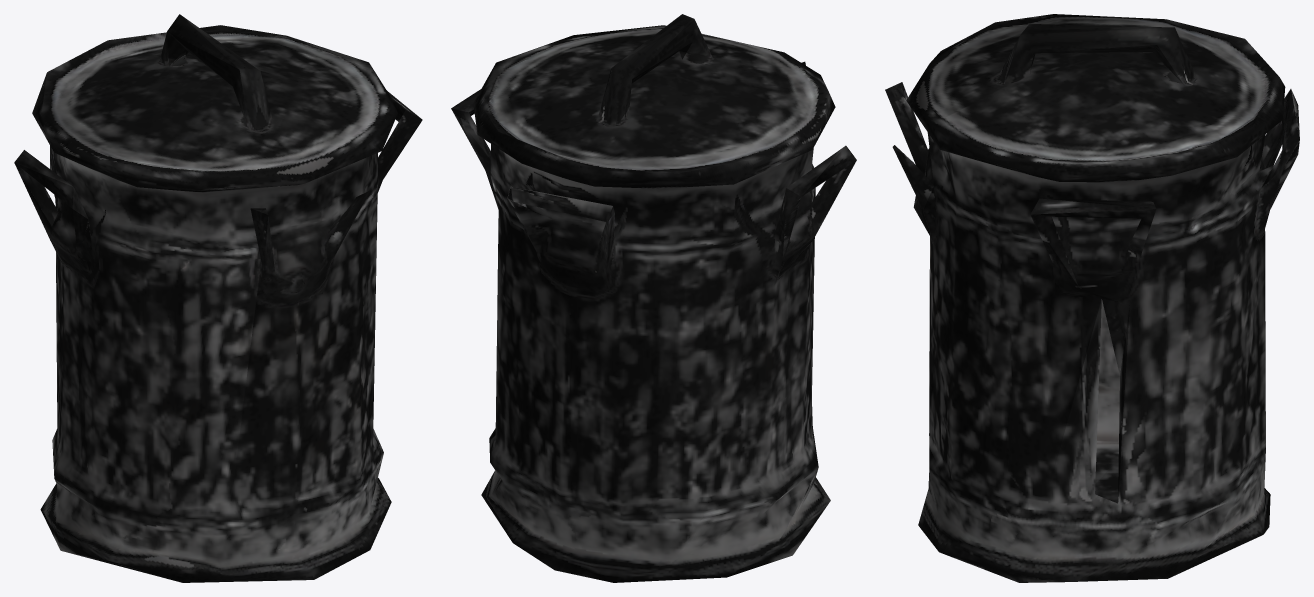
File: galvanized-trashcan.glb
The picture shows the model from 3 angles, left to right: view 1: azimuth 30°, elevation 25°; view 2: azimuth 150°, elevation 25°; view 3: azimuth 270°, elevation 25°; orthographic projection. The views are drawn at different scales.
Parts seen in each view (by area): view 1: geometry_0.001; view 2: geometry_0.001; view 3: geometry_0.001.
Boxes of the visible parts, x1,y1,x2,y2 form: geometry_0.001: (14, 14, 422, 582); geometry_0.001: (451, 14, 856, 582); geometry_0.001: (885, 14, 1299, 582).
Size of the model in its own units: 0.7627 by 0.9954 by 0.7587.
1 material, 1 textured.
